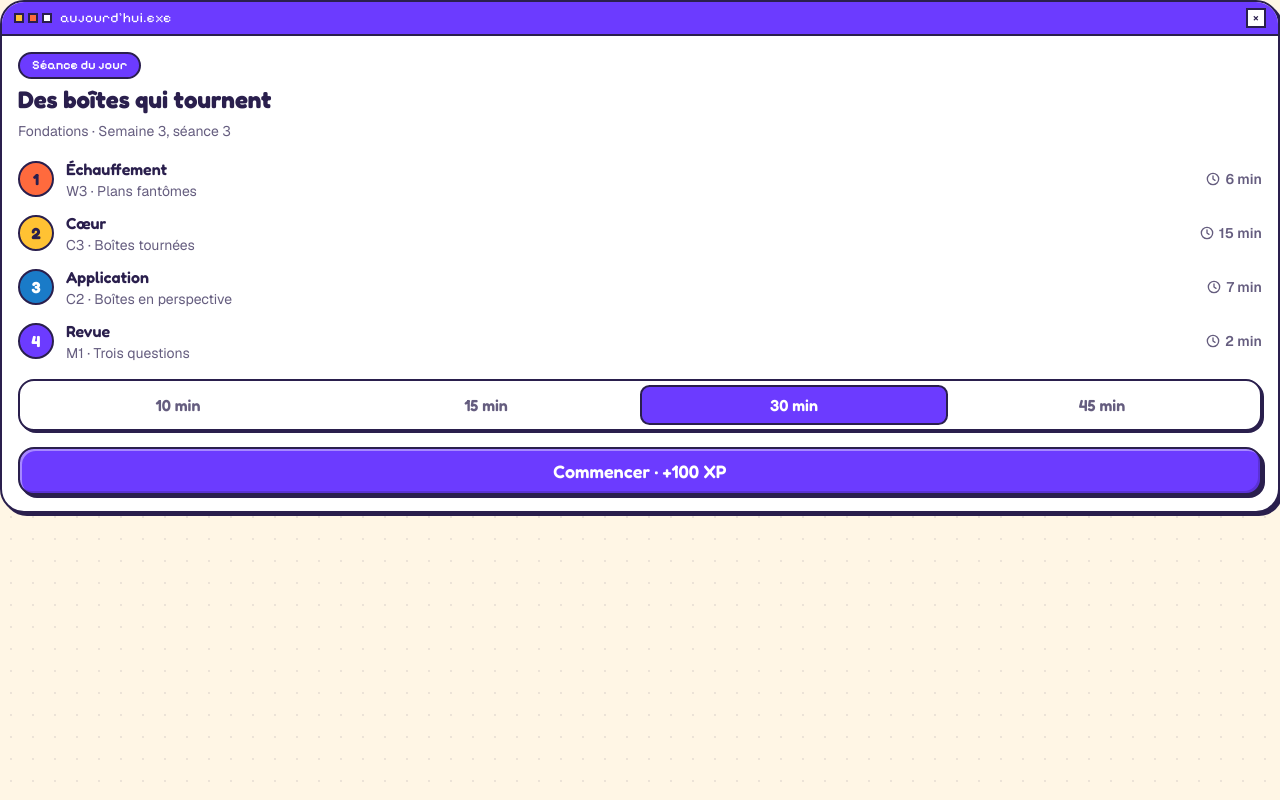
Test case: TodaySessionCard › says honestly that the session player is not there yet
The width and height of the screenshot is (1280, 800).
Click the button "Commencer · +100 XP". click: (640, 471)
box: top-left (18, 447), bottom-right (1262, 495)
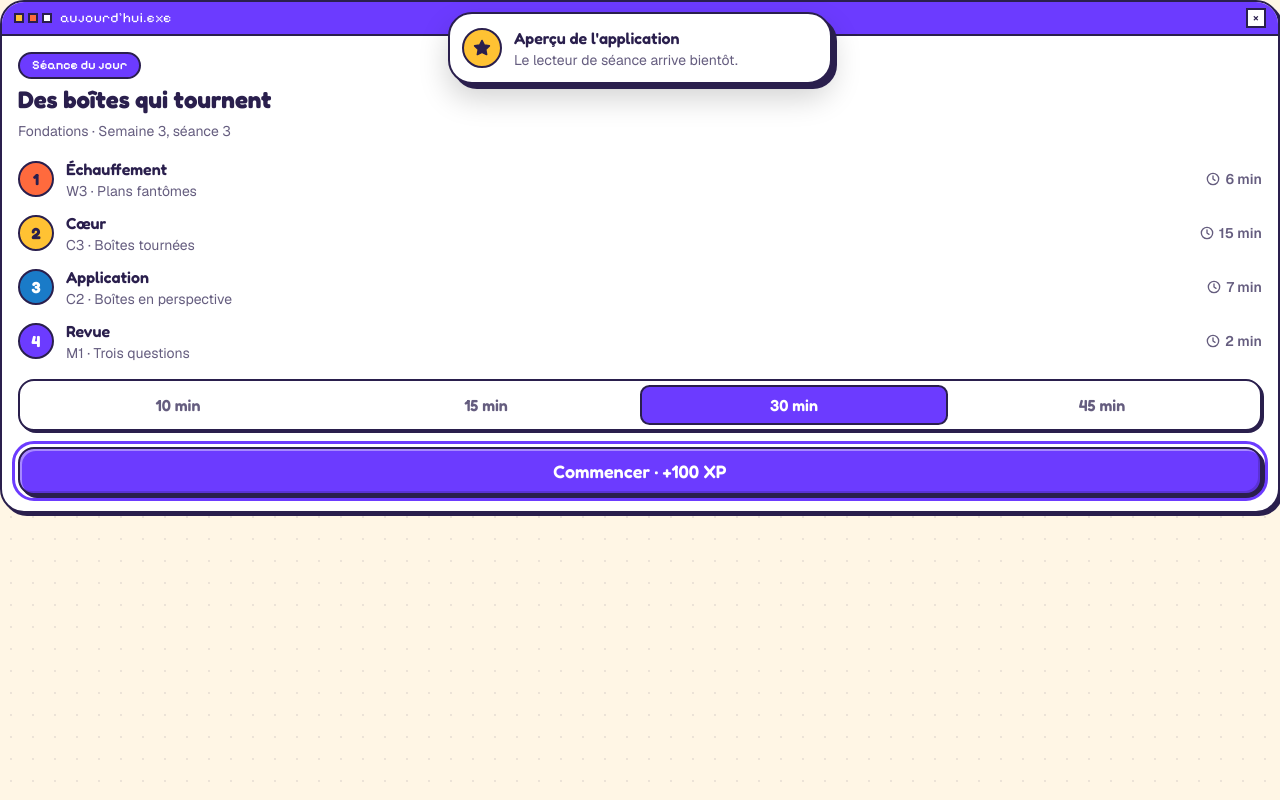
Result: the message shows "arrive bientôt" at top-left (448, 12), bottom-right (832, 84)
